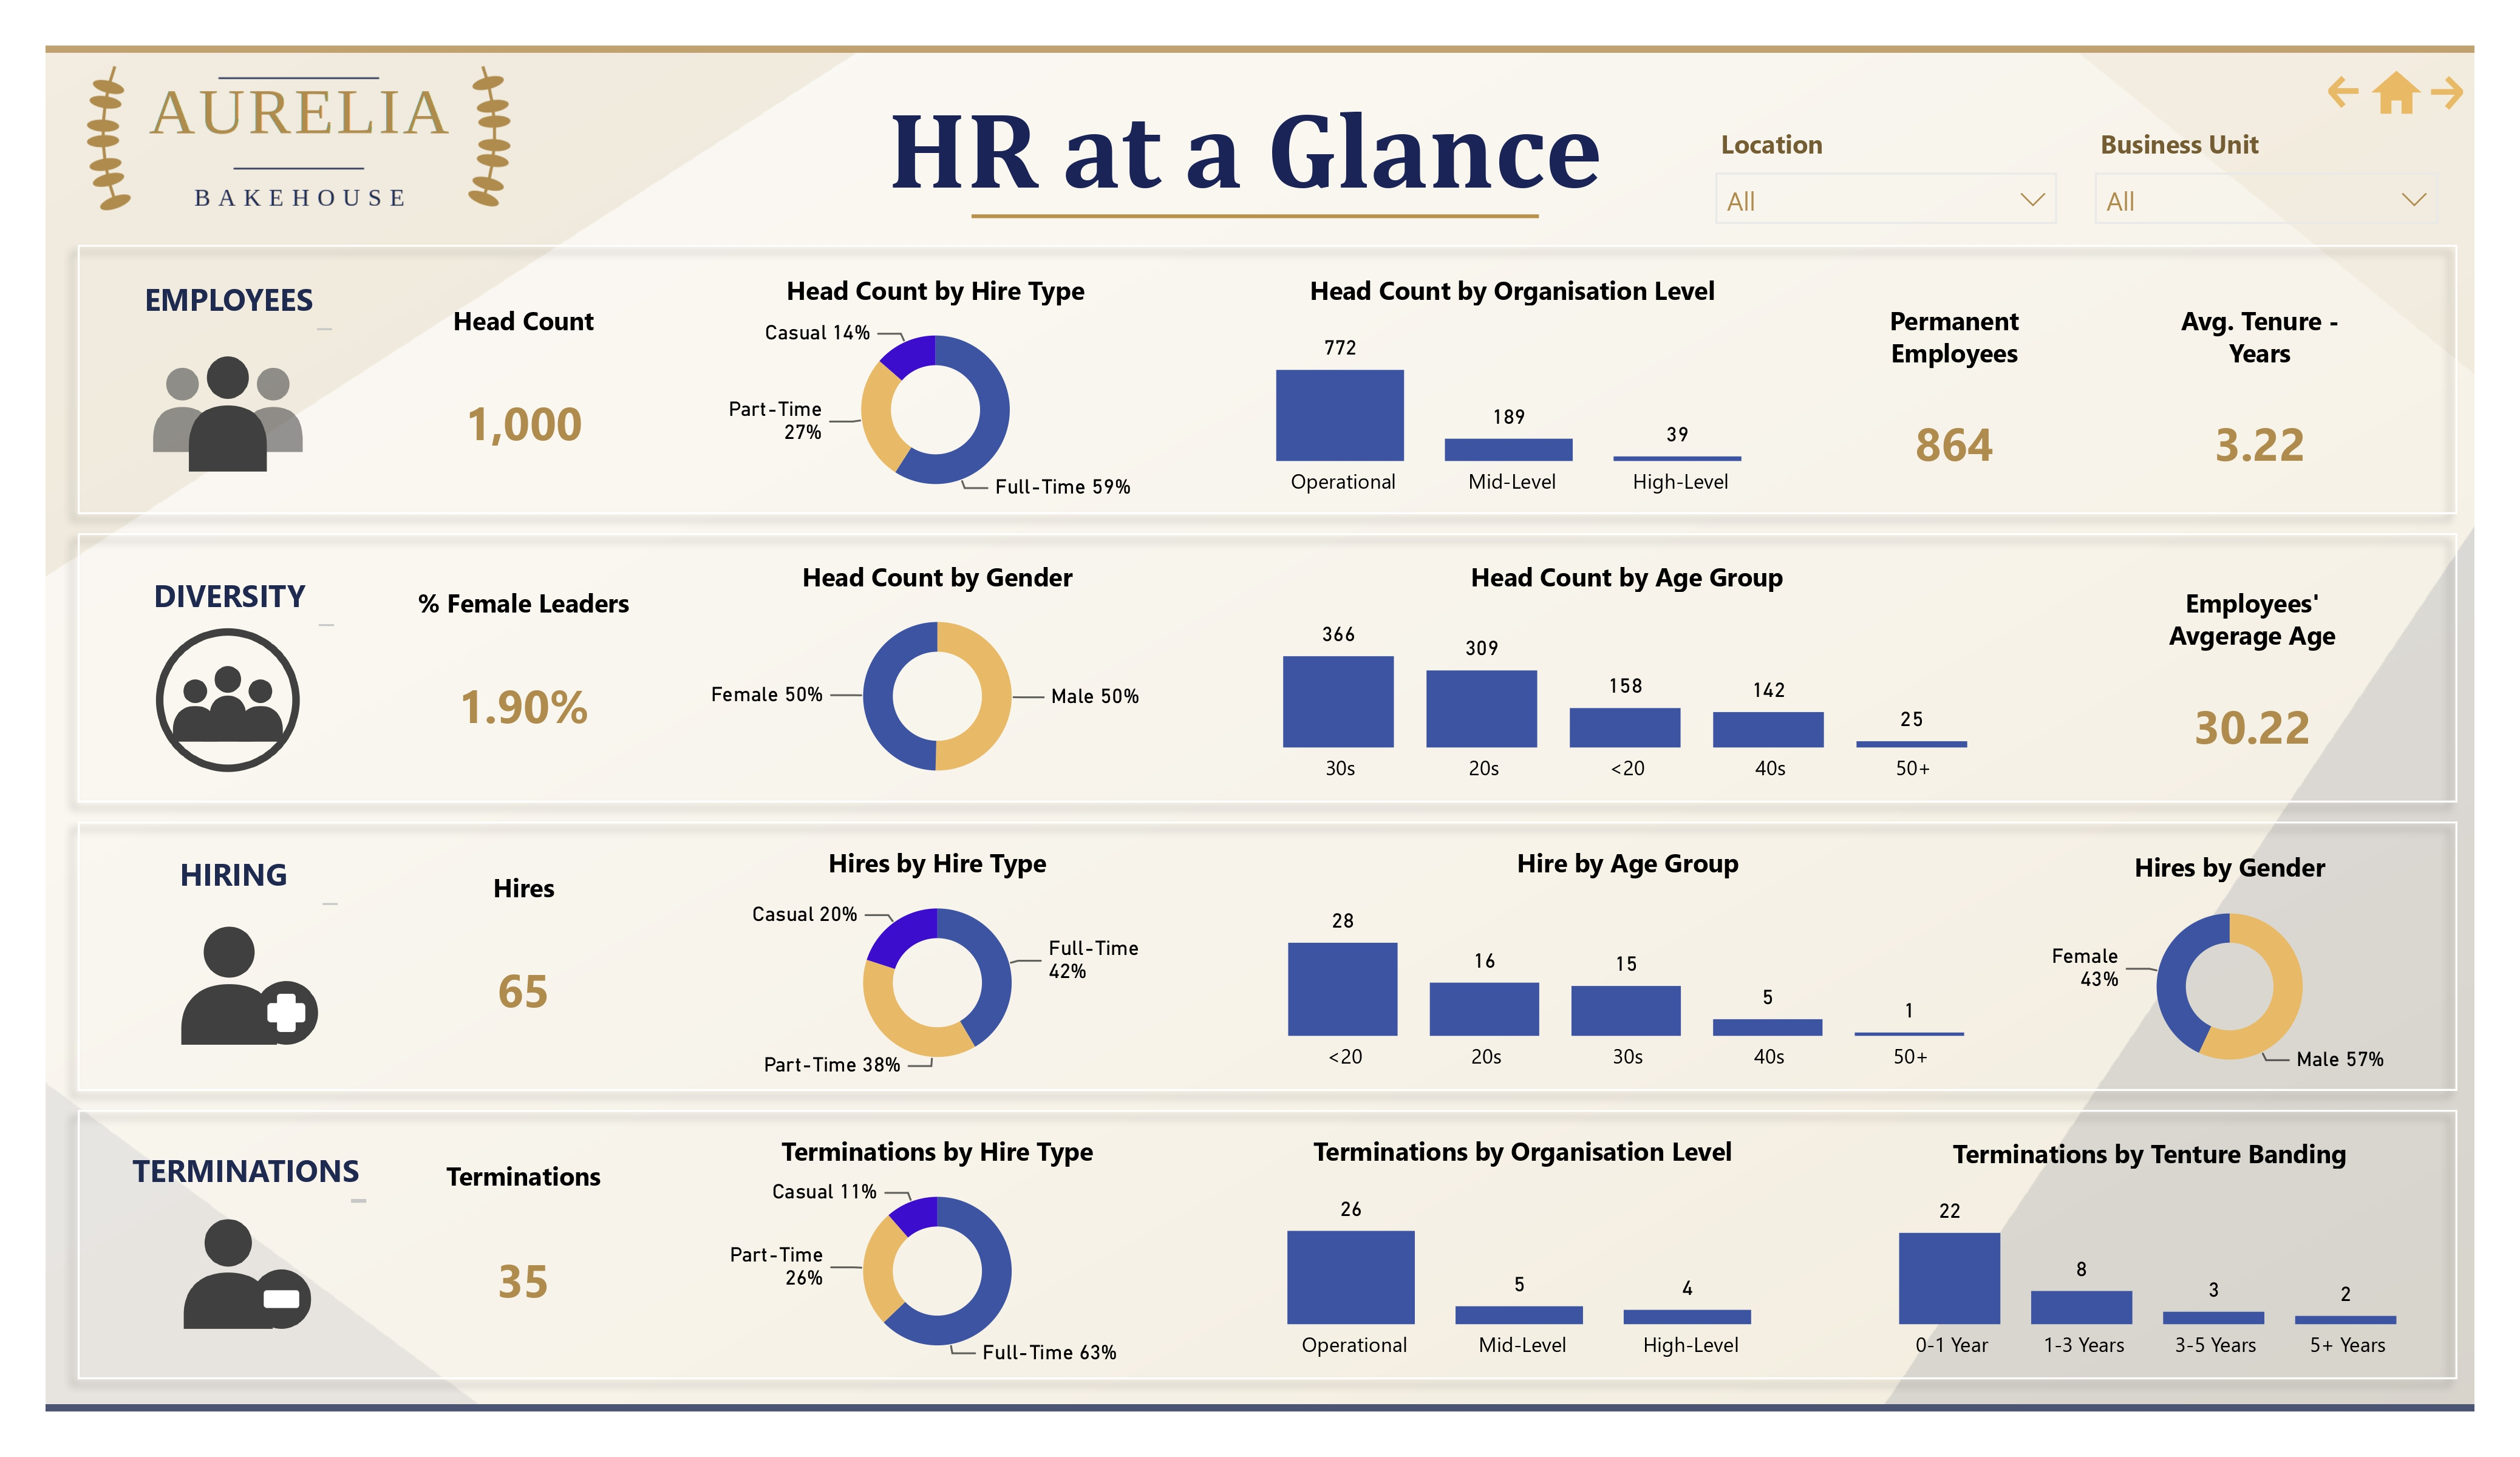

The dashboard page shown, as its layout file describes it:
{"tool":"powerbi","page":{"name":"Glance","canvas":[1280,720],"ordinal":1},"visuals":[{"type":"shape","box":[7.7,248,1272.3,160.1],"z":0},{"type":"shape","box":[8,96,1272,160],"z":1000},{"type":"shape","box":[8,400,1272,160],"z":2000},{"type":"shape","box":[8,552,1272,160],"z":3000},{"type":"slicer","fields":{"Values":["BusinessUnits.BusinessUnit"]},"box":[1070.2,38.1,200.6,63.7],"z":4000},{"type":"cardVisual","title":"Head Count","fields":{"Data":["CountNonNull(EmployeeDetails.EmployeeID)"]},"box":[184,136,136,104],"z":4000,"group":"g2"},{"type":"slicer","fields":{"Values":["BusinessUnits.Location"]},"box":[870.5,38.1,199.7,63.7],"z":5000},{"type":"donutChart","title":"Head Count by Hire Type","fields":{"Y":["CountNonNull(EmployeeDetails.EmployeeID)"],"Category":["EmployeeDetails.EmploymentType"]},"box":[333.4,120,272,127],"z":5000,"group":"g2"},{"type":"textbox","title":"HR at a Glance","box":[450.2,21.3,379.5,72.7],"z":6000},{"type":"clusteredColumnChart","title":"Head Count by Organisation Level","fields":{"Category":["EmploymentDetails.OrgLevel"],"Y":["CountNonNull(EmployeeDetails.EmployeeID)"]},"box":[608.4,120,330,128],"z":6000,"group":"g2"},{"type":"group","id":"g1","title":"Group 1","box":[33.6,271.1,1190.8,128.4],"z":7000},{"type":"donutChart","title":"Head Count by Gender","fields":{"Y":["CountNonNull(EmployeeDetails.EmployeeID)"],"Category":["EmployeeDetails.Gender"]},"box":[333.4,271.3,272,127],"z":7000,"group":"g1"},{"type":"group","id":"g2","title":"Group 2","box":[32,120,1192.1,128],"z":8000},{"type":"clusteredColumnChart","title":"Head Count by Age Group","fields":{"Category":["EmployeeDetails.AgeGroup"],"Y":["CountNonNull(EmployeeDetails.EmployeeID)"]},"box":[617,271.1,433.1,128.4],"z":8000,"group":"g1"},{"type":"cardVisual","title":"Employees'' Avgerage Age","fields":{"Data":["Avg(EmployeeDetails.Age)"]},"box":[1100.8,285.5,123.6,104],"z":9000,"group":"g1"},{"type":"group","id":"g3","title":"Group 3","box":[38.6,422.4,1215.5,129.5],"z":9000},{"type":"cardVisual","title":"Permanent Employees","fields":{"Data":["CountNonNull(EmployeeDetails.EmployeeID)"]},"box":[943.7,136,124,104],"z":10000,"group":"g2"},{"type":"group","id":"g4","title":"Group 4","box":[36.7,573.9,1237.1,129.3],"z":10000},{"type":"image","box":[0,2.9,263.3,93.6],"z":11000},{"type":"cardVisual","title":"% Female Leaders","fields":{"Data":[" Measures.FemaleLeadersPercentage"]},"box":[184,285.6,136,104],"z":11000,"group":"g1"},{"type":"cardVisual","title":"Hires","fields":{"Data":["CountNonNull(EmployeeDetails.EmployeeID)"]},"box":[184,435.2,136,104],"z":12000,"group":"g3"},{"type":"actionButton","box":[1198.8,8.9,24.8,30.1],"z":13000},{"type":"donutChart","title":"Hires by Hire Type","fields":{"Y":["CountNonNull(EmployeeDetails.EmployeeID)"],"Category":["EmployeeDetails.EmploymentType"]},"box":[333.4,422.6,272,127],"z":13000,"group":"g3"},{"type":"actionButton","box":[1252,9.8,25.7,30.1],"z":14000},{"type":"donutChart","title":"Hires by Gender","fields":{"Y":["CountNonNull(EmployeeDetails.EmployeeID)"],"Category":["EmployeeDetails.Gender"]},"box":[1046.2,424.4,207.9,127.4],"z":14000,"group":"g3"},{"type":"image","box":[1210.3,0,56.7,49.7],"z":15000},{"type":"clusteredColumnChart","title":"Hire by Age Group","fields":{"Category":["EmployeeDetails.AgeGroup"],"Y":["CountNonNull(EmployeeDetails.EmployeeID)"]},"box":[619.2,422.4,428.2,128.6],"z":15000,"group":"g3"},{"type":"cardVisual","title":"Terminations","fields":{"Data":["CountNonNull(EmployeeDetails.EmployeeID)"]},"box":[184,587.3,136,104.4],"z":17000,"group":"g4"},{"type":"donutChart","title":"Terminations by Hire Type","fields":{"Y":["CountNonNull(EmployeeDetails.EmployeeID)"],"Category":["EmployeeDetails.EmploymentType"]},"box":[333.4,573.9,272.1,127.4],"z":18000,"group":"g4"},{"type":"clusteredColumnChart","title":"Terminations by Organisation Level","fields":{"Category":["EmploymentDetails.OrgLevel"],"Y":["CountNonNull(EmployeeDetails.EmployeeID)"]},"box":[613.5,574.1,329.3,128.6],"z":19000,"group":"g4"},{"type":"clusteredColumnChart","title":"Terminations by Tenture Banding","fields":{"Y":["CountNonNull(EmployeeDetails.EmployeeID)"],"Category":["EmployeeDetails.TentureYearsGroup"]},"box":[943.8,574.9,330,128.4],"z":20000,"group":"g4"},{"type":"image","box":[32,144,128,96],"z":25000,"group":"g2"},{"type":"image","box":[33.6,301.4,122.9,87.4],"z":26000,"group":"g1"},{"type":"image","box":[47.3,446.6,112.9,93.6],"z":27000,"group":"g3"},{"type":"image","box":[50.9,601,105.6,88.3],"z":28000,"group":"g4"},{"type":"cardVisual","title":"Avg. Tenure - Years","fields":{"Data":["Avg(EmployeeDetails.YearsOfService)"]},"box":[1110.2,136,113.8,104.2],"z":30000,"group":"g2"},{"type":"textbox","title":"TERMINATIONS","box":[36.7,581.7,137,32.8],"z":31500,"group":"g4"},{"type":"textbox","title":"HIRING","box":[38.6,426.3,119.6,31.8],"z":32000,"group":"g3"},{"type":"textbox","title":"DIVERSITY","box":[36.5,279.3,120,31.7],"z":32500,"group":"g1"},{"type":"textbox","title":"EMPLOYEES","box":[36.7,122.5,119.6,32.8],"z":33000,"group":"g2"}]}

Visuals, with their boxes on the page's 1280x720 design canvas (x1, y1, x2, y2). These are canvas units, not pixel positions in the 2520x1457 screenshot, which may show the page scaled, cropped or inside an application window:
shape: region(8, 248, 1280, 408)
shape: region(8, 96, 1280, 256)
shape: region(8, 400, 1280, 560)
shape: region(8, 552, 1280, 712)
slicer - BusinessUnits.BusinessUnit: region(1070, 38, 1271, 102)
"Head Count" cardVisual: region(184, 136, 320, 240)
slicer - BusinessUnits.Location: region(870, 38, 1070, 102)
"Head Count by Hire Type" donutChart: region(333, 120, 605, 247)
"HR at a Glance" textbox: region(450, 21, 830, 94)
"Head Count by Organisation Level" clusteredColumnChart: region(608, 120, 938, 248)
"Group 1" group: region(34, 271, 1224, 400)
"Head Count by Gender" donutChart: region(333, 271, 605, 398)
"Group 2" group: region(32, 120, 1224, 248)
"Head Count by Age Group" clusteredColumnChart: region(617, 271, 1050, 400)
"Employees'' Avgerage Age" cardVisual: region(1101, 286, 1224, 390)
"Group 3" group: region(39, 422, 1254, 552)
"Permanent Employees" cardVisual: region(944, 136, 1068, 240)
"Group 4" group: region(37, 574, 1274, 703)
image: region(0, 3, 263, 96)
"% Female Leaders" cardVisual: region(184, 286, 320, 390)
"Hires" cardVisual: region(184, 435, 320, 539)
actionButton: region(1199, 9, 1224, 39)
"Hires by Hire Type" donutChart: region(333, 423, 605, 550)
actionButton: region(1252, 10, 1278, 40)
"Hires by Gender" donutChart: region(1046, 424, 1254, 552)
image: region(1210, 0, 1267, 50)
"Hire by Age Group" clusteredColumnChart: region(619, 422, 1047, 551)
"Terminations" cardVisual: region(184, 587, 320, 692)
"Terminations by Hire Type" donutChart: region(333, 574, 606, 701)
"Terminations by Organisation Level" clusteredColumnChart: region(614, 574, 943, 703)
"Terminations by Tenture Banding" clusteredColumnChart: region(944, 575, 1274, 703)
image: region(32, 144, 160, 240)
image: region(34, 301, 156, 389)
image: region(47, 447, 160, 540)
image: region(51, 601, 156, 689)
"Avg. Tenure - Years" cardVisual: region(1110, 136, 1224, 240)
"TERMINATIONS" textbox: region(37, 582, 174, 614)
"HIRING" textbox: region(39, 426, 158, 458)
"DIVERSITY" textbox: region(36, 279, 156, 311)
"EMPLOYEES" textbox: region(37, 122, 156, 155)
